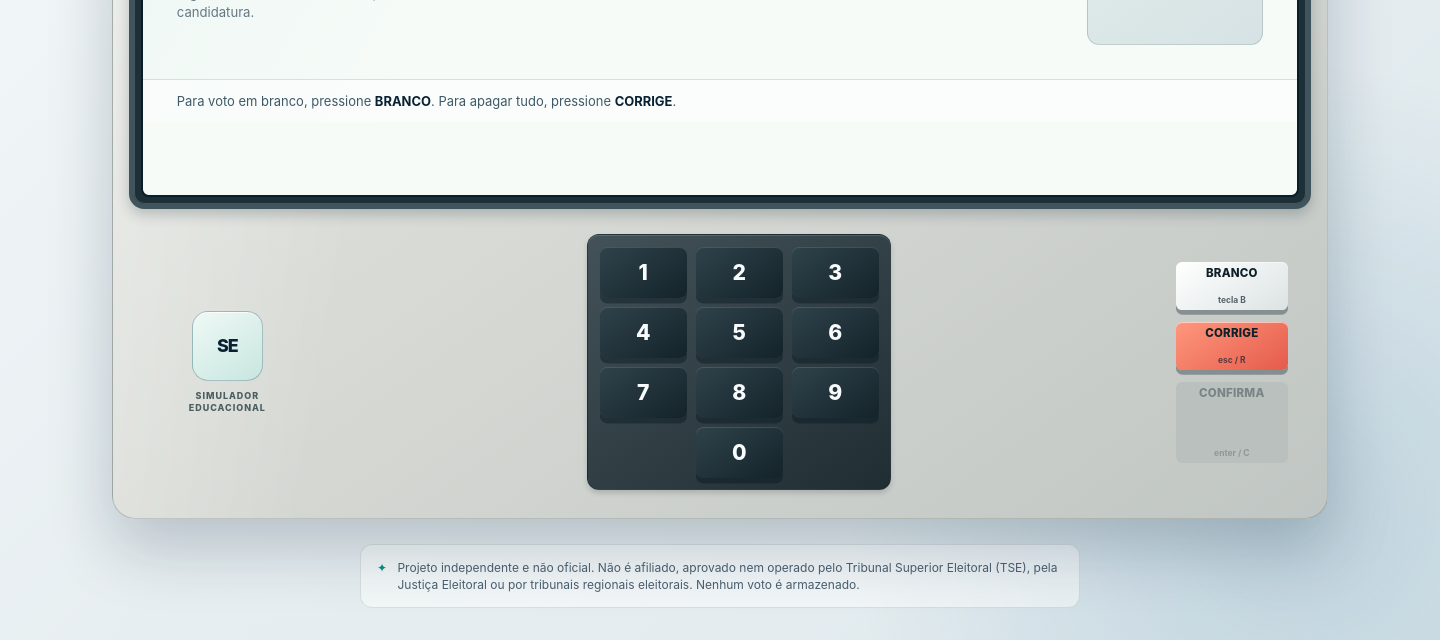
Test: voting interface › allows a blank vote to be reviewed and corrected
This screenshot has width=1440, height=640.
(page scrolled)
What coordinates should you click on to do the following:
click the button with aria-label "Votar em branco"
I would click on:
 (1232, 286)
Its box is [1176,262,1288,310].
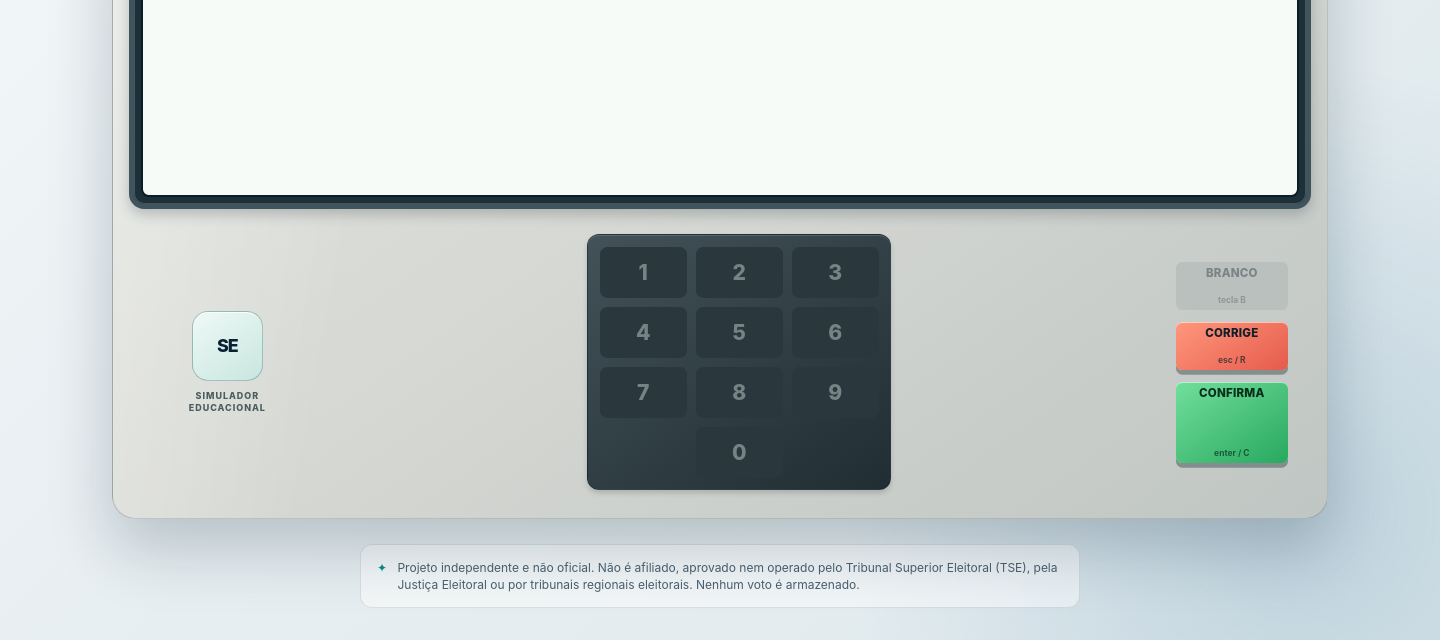
Expected: the button with aria-label "Confirmar voto" is enabled, [1176,382,1288,463]
What coordinates should you click on to do the following:
click the button with aria-label "Corrigir voto"
I would click on:
 (1232, 346)
Its box is [1176,322,1288,370].
(page scrolled)
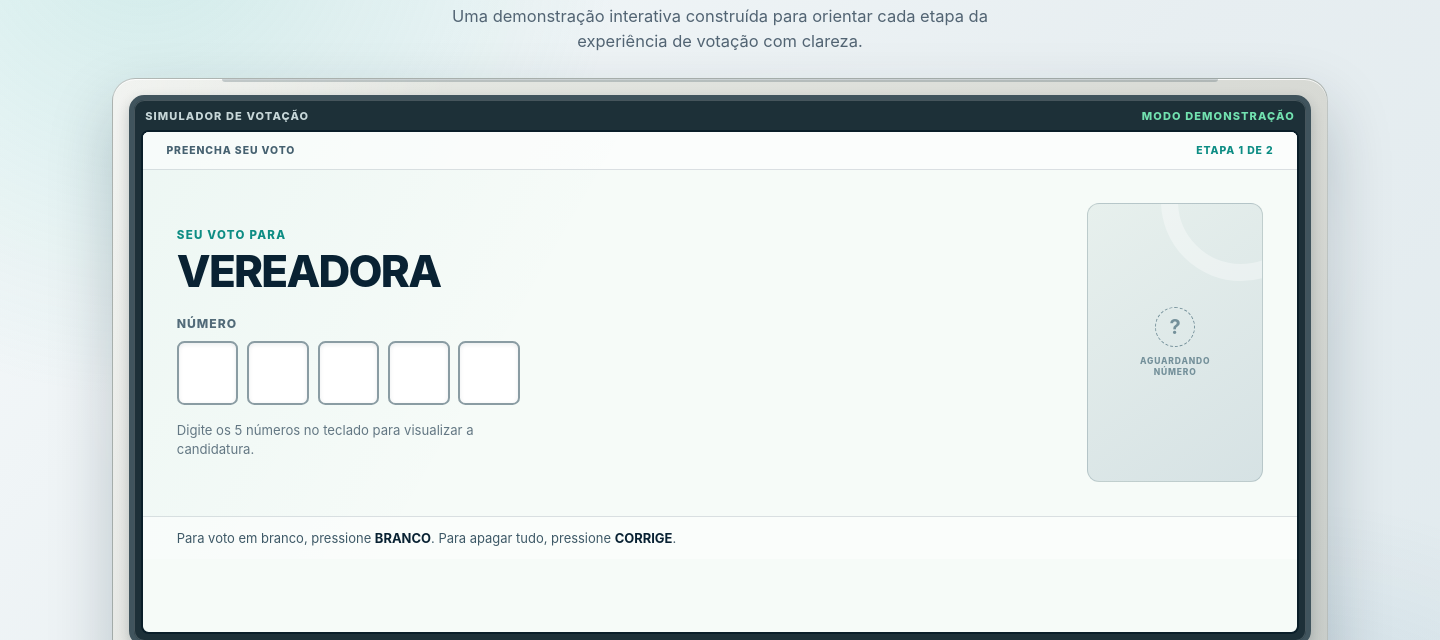
Expected: the text "SEU VOTO PARA" is shown, [177,228,286,242]
